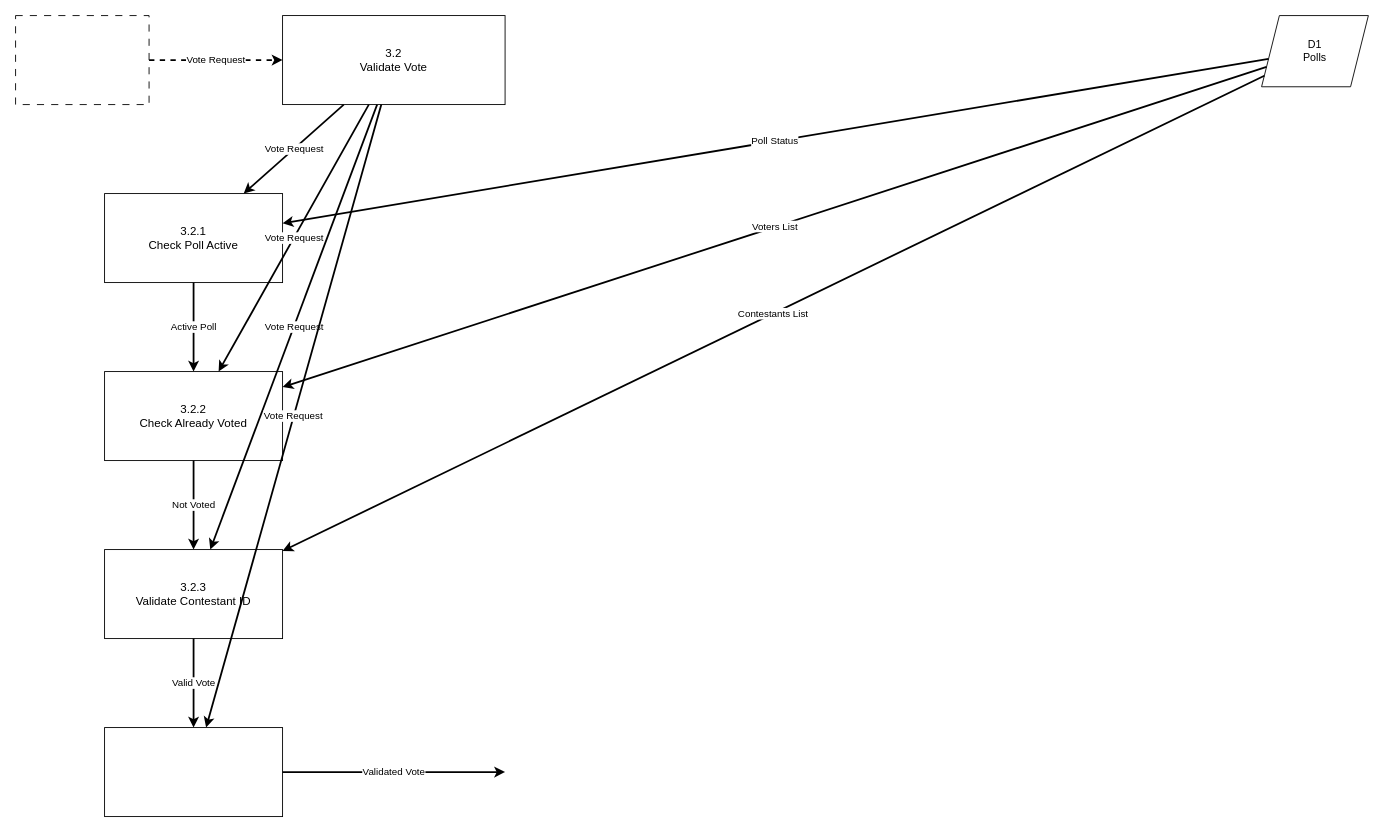
This 1384x832 diagram has some shape labels left out. Each missing label, with the box of its shape:
3.2.4 Send Validation Result: (104, 727, 283, 817)
Vote Request (from 3.1): (15, 15, 149, 105)
